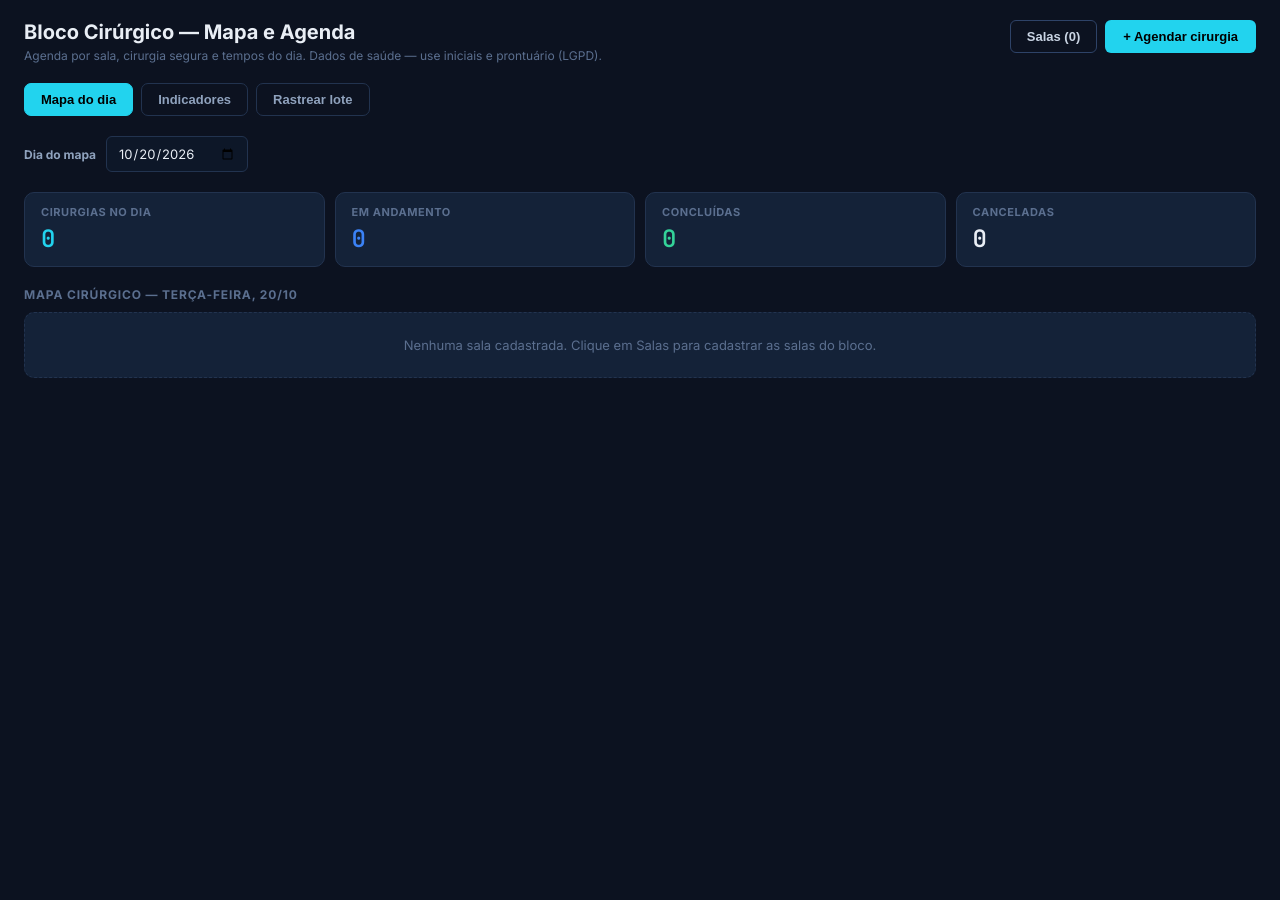
Test case: 🔴 conflito de sala: o dia que a pessoa escolheu › enquanto não leu o outro dia, DIZ que não conferiu — o silêncio não passa por 'livre'
Click the button "+ Agendar cirurgia" at (1181, 36), box [1105,20,1256,53]
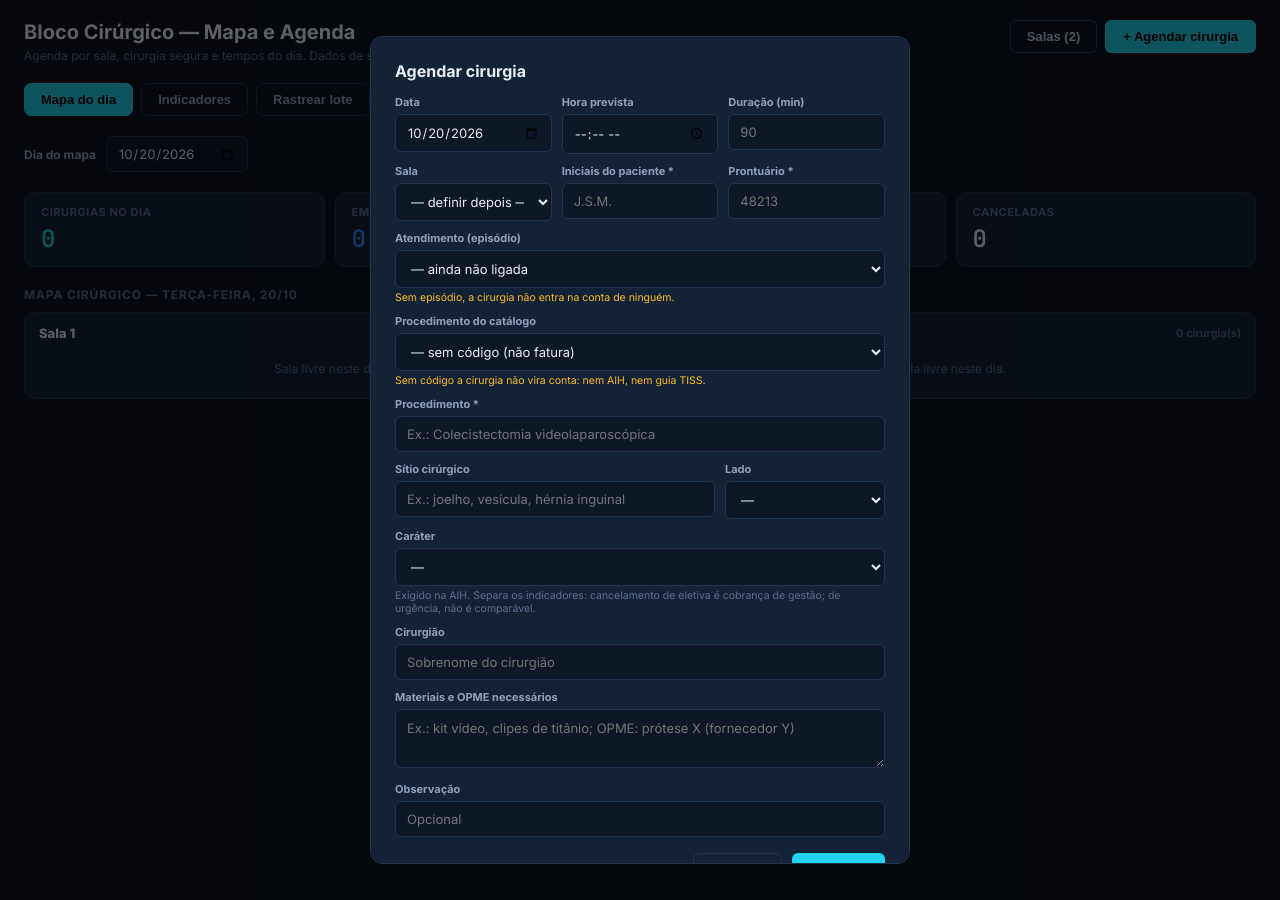
Type "2026-12-15" into the date field at (473, 133), box [395,114,552,152]
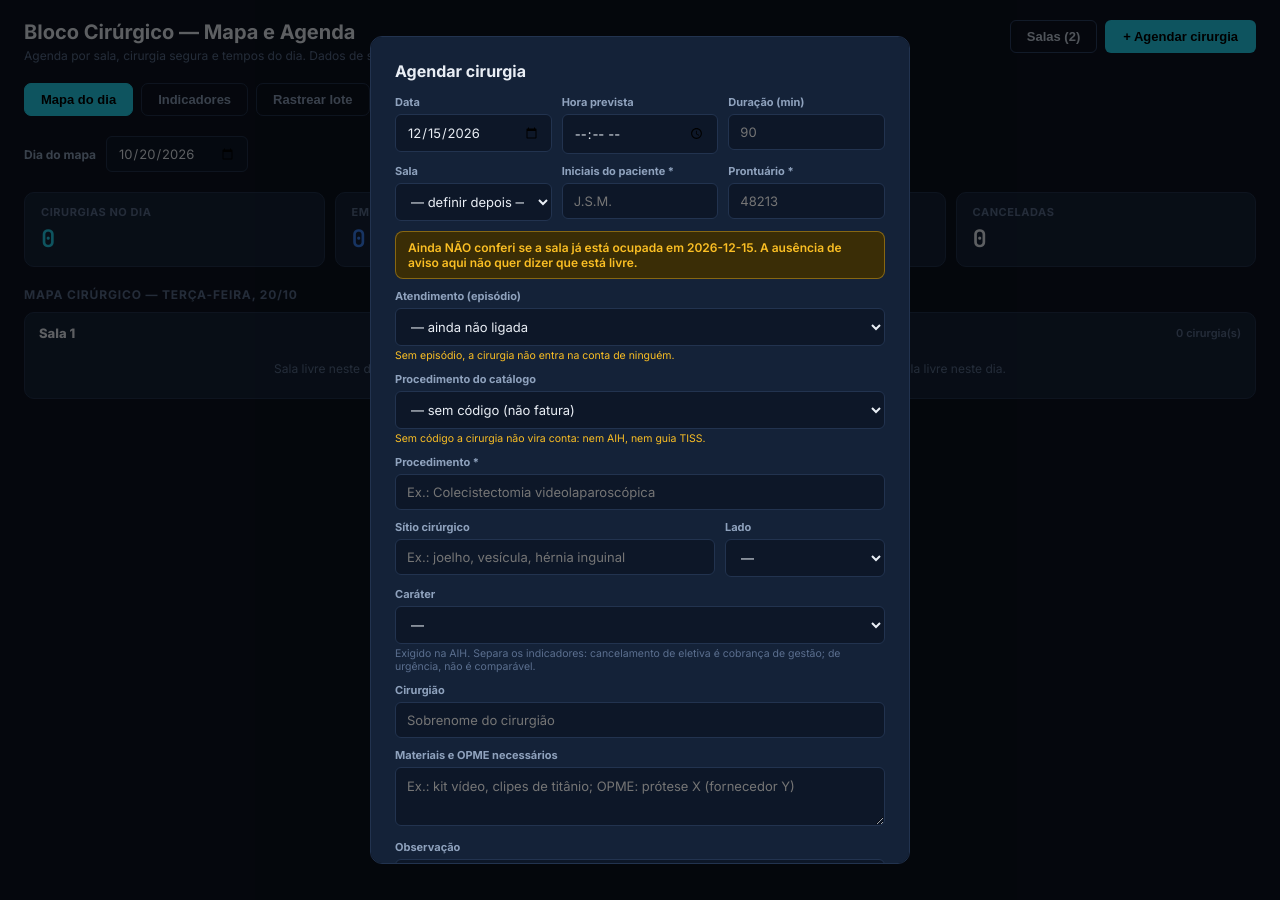
Check: the text "Ainda NÃO conferi se a sala já está ocupada" is shown, box [408,240,687,255]
